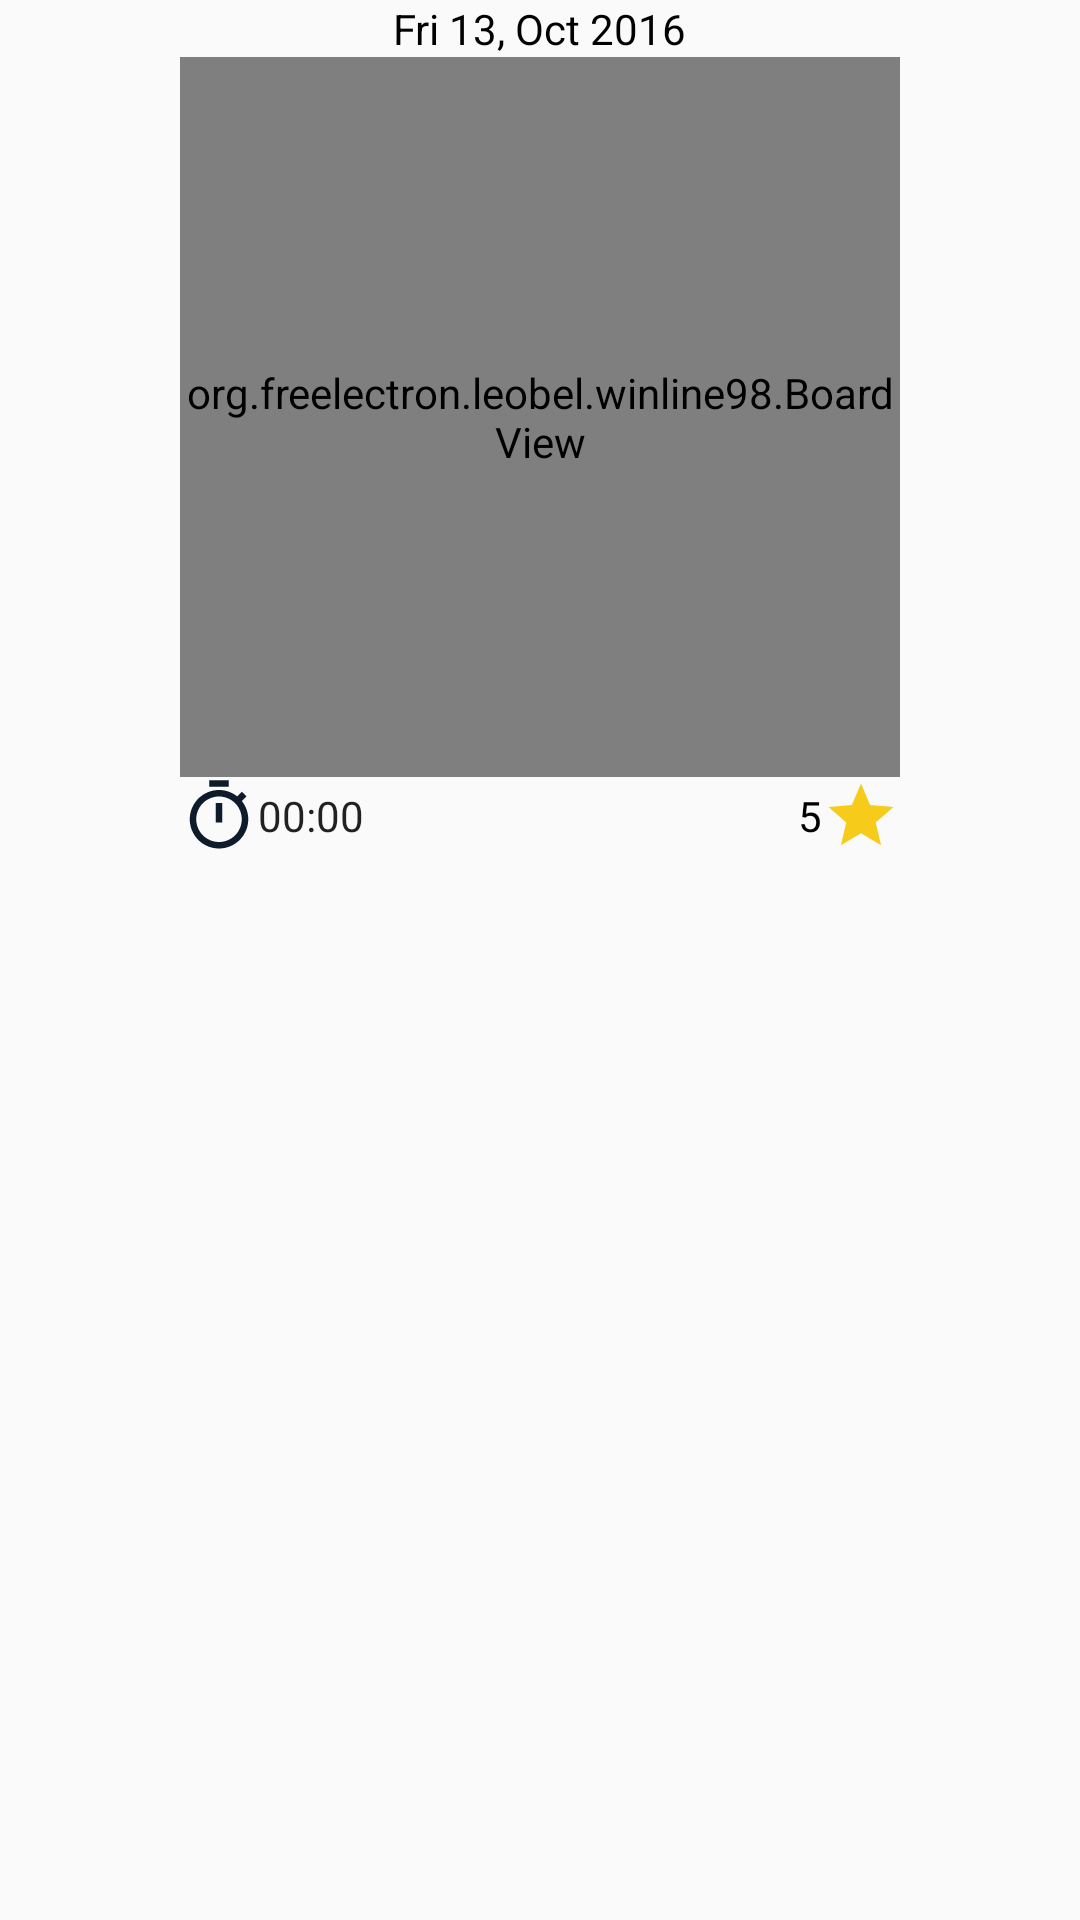

Screen size 1080×1920. Icon name, then its center in pixels as (x,y):
star: (861,814)
timer: (219,814)
